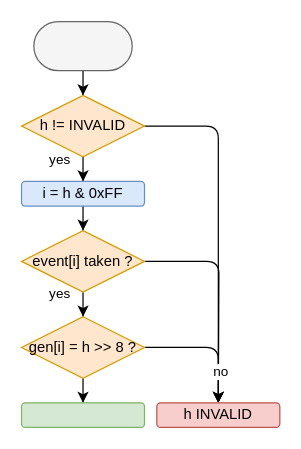
This 301x449 diagram has some shape labels left out. Here are the shapes that lost their labels. From the top down, the centre of each, then its label:
pixel 82 45: Is h valid ?
pixel 82 414: h VALID
